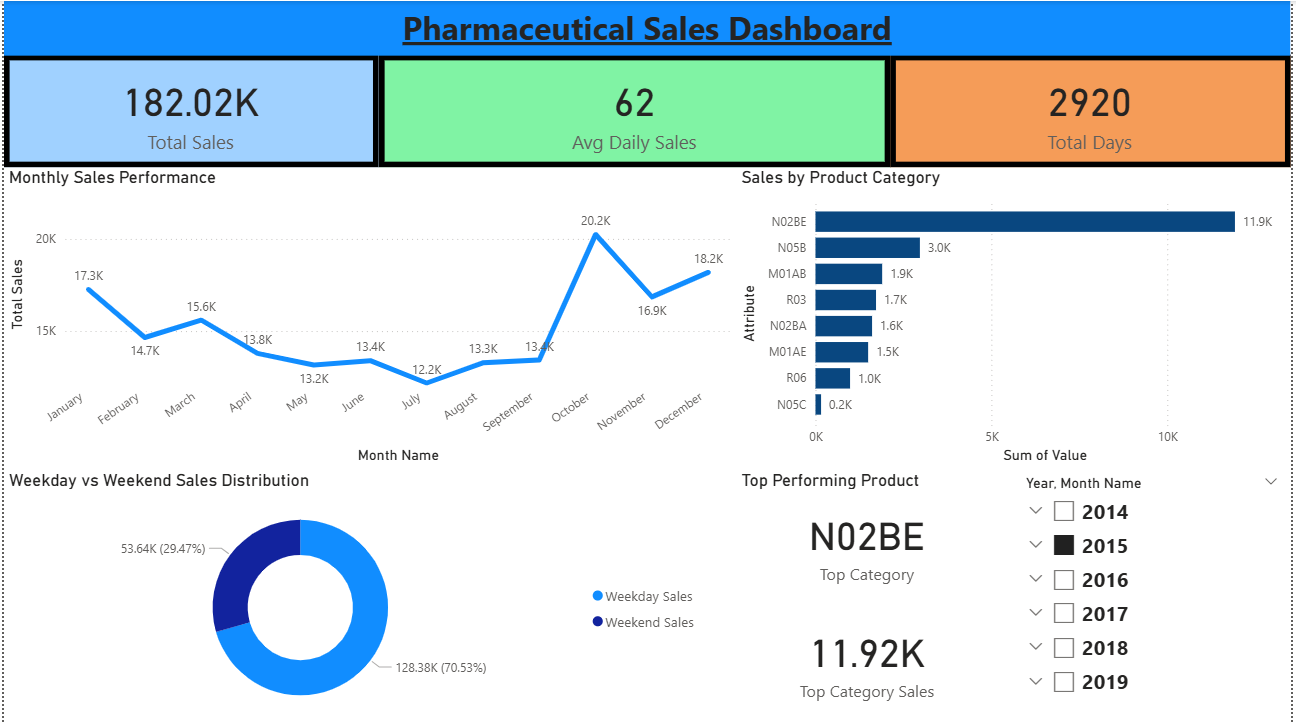

Layout of this report page (visuals, bound fields, positions):
{"tool":"powerbi","page":{"name":"Page 1","canvas":[1280,720],"ordinal":0},"visuals":[{"type":"card","fields":{"Values":["Clean_Data.Total Sales"]},"box":[0,54,372.6,112.4],"z":0},{"type":"card","fields":{"Values":["Clean_Data.Avg. Daily Sales"]},"box":[372.6,54,509.2,112.4],"z":1000},{"type":"card","fields":{"Values":["Clean_Data.Total Days"]},"box":[881.8,54,398.2,112.4],"z":2000},{"type":"lineChart","title":"Monthly Sales Performance","fields":{"Category":["Clean_Data.Month Name"],"Y":["Clean_Data.Total Sales"]},"box":[0,165.9,728.6,300.1],"z":3000},{"type":"clusteredBarChart","title":"Sales by Product Category","fields":{"Category":["Clean_Data.Attribute"],"Y":["Sum(Clean_Data.Value)"]},"box":[728.6,165.9,551.1,300.1],"z":4000},{"type":"donutChart","title":"Weekday vs Weekend Sales Distribution","fields":{"Y":["Clean_Data.Weekday Sales","Clean_Data.Weekend Sales"]},"box":[0,466,701.2,253.9],"z":5000},{"type":"slicer","fields":{"Values":["Clean_Data.Year","Clean_Data.Month Name"]},"box":[1003.9,466.5,276.2,253.8],"z":6000},{"type":"textbox","box":[0,0,1280,54],"z":7000},{"type":"card","title":"Top Performing Product","fields":{"Values":["Clean_Data.Top Category"]},"box":[729,466.5,260,126.9],"z":7001},{"type":"card","fields":{"Values":["Clean_Data.Top Category Sales"]},"box":[729,593.4,260,126.9],"z":7002}]}

Visuals, with their boxes in screenshot pixels (x1, y1, x2, y2), scaled from the page's 1280x720 canvas onto the 1296x724 screenshot:
card - Clean_Data.Total Sales: Rect(0, 54, 377, 167)
card - Clean_Data.Avg. Daily Sales: Rect(377, 54, 893, 167)
card - Clean_Data.Total Days: Rect(893, 54, 1295, 167)
"Monthly Sales Performance" lineChart: Rect(0, 167, 738, 469)
"Sales by Product Category" clusteredBarChart: Rect(738, 167, 1295, 469)
"Weekday vs Weekend Sales Distribution" donutChart: Rect(0, 469, 710, 723)
slicer - Clean_Data.Year x Clean_Data.Month Name: Rect(1016, 469, 1295, 723)
textbox: Rect(0, 0, 1295, 54)
"Top Performing Product" card: Rect(738, 469, 1001, 597)
card - Clean_Data.Top Category Sales: Rect(738, 597, 1001, 723)
